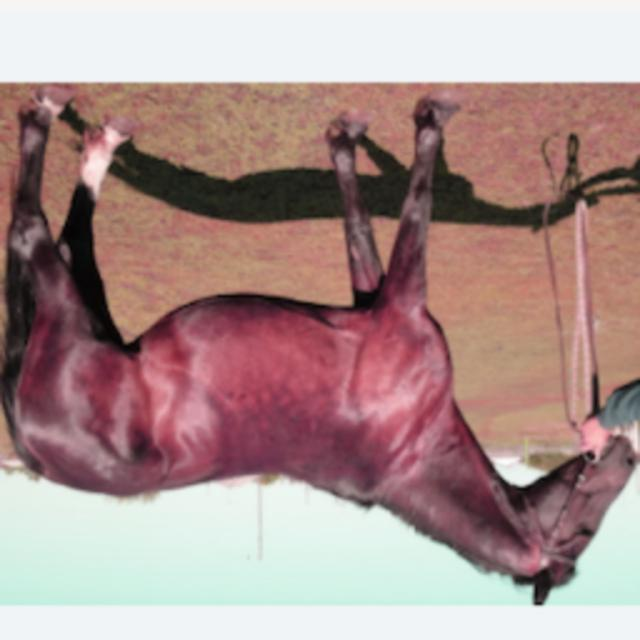Horse: (2, 88, 640, 610)
